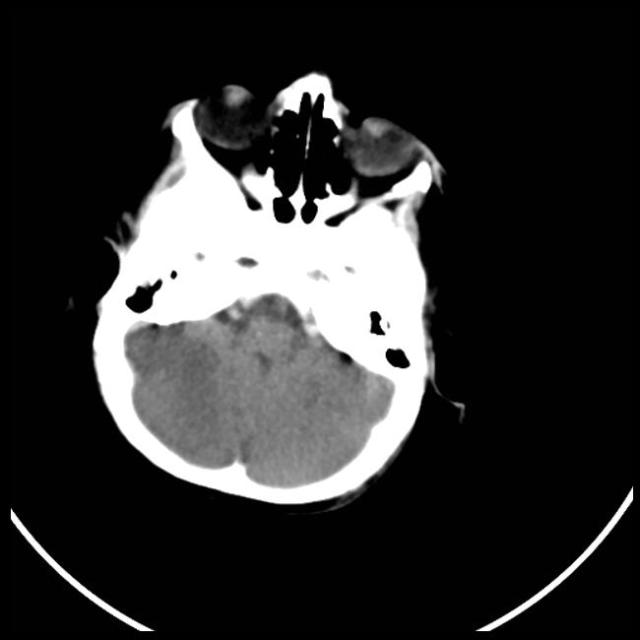lesion: (84, 66, 464, 513)
